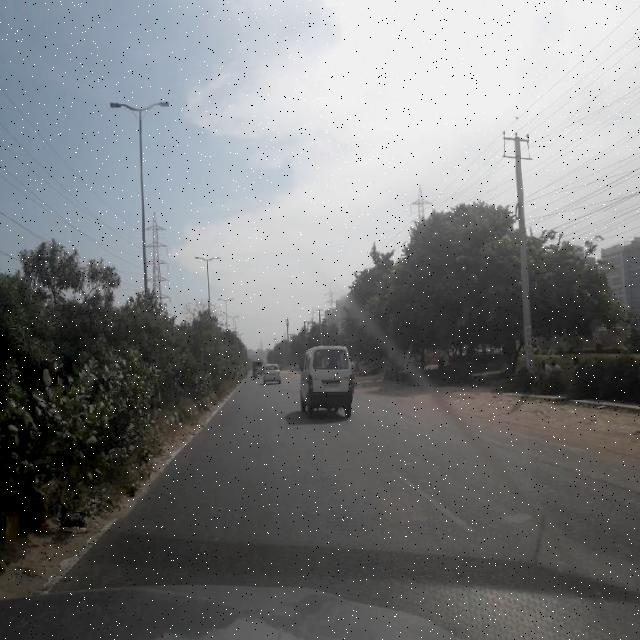D20: (109, 440, 634, 585)
D44: (392, 458, 477, 528)
